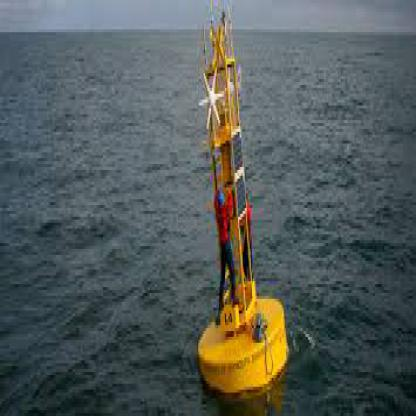buoy: (188, 0, 296, 405)
